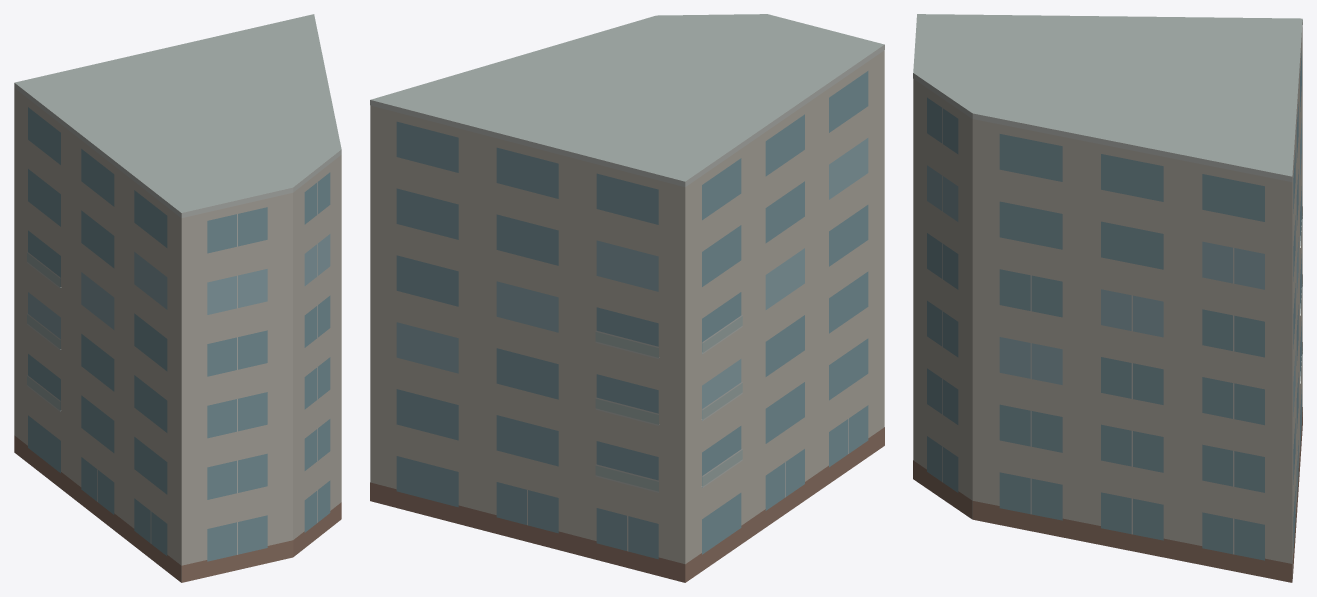
File: survey-upis-32940518.glb
3 renders of one model, left to right at view 1: azimuth 30°, elevation 25°; view 2: azimuth 150°, elevation 25°; view 3: azimuth 270°, elevation 25°, orthographic. The views are drawn at different scales.
Visible parts, largest first — view 1: survey-upis-32940518.tmp; view 2: survey-upis-32940518.tmp; view 3: survey-upis-32940518.tmp.
Boxes of the visible parts, x1=… form: survey-upis-32940518.tmp: x1=14, y1=14, x2=341, y2=582; survey-upis-32940518.tmp: x1=370, y1=14, x2=884, y2=582; survey-upis-32940518.tmp: x1=913, y1=14, x2=1302, y2=582.
Size of the model in its own units: 15.12 by 17.6 by 15.31.
